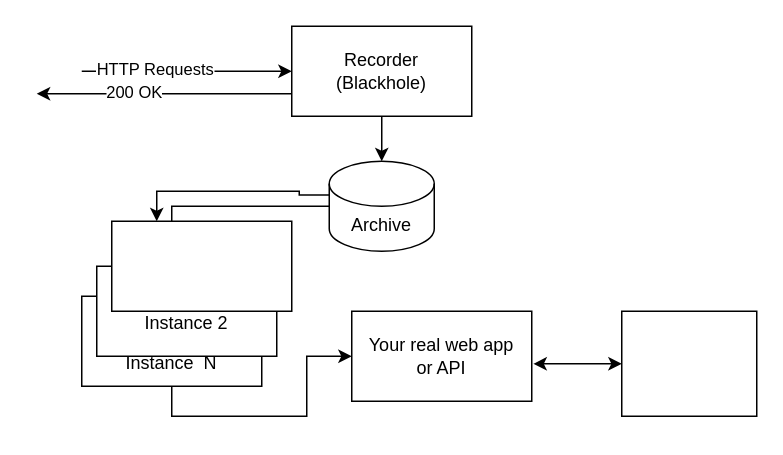
Some shapes in this 783 by 455 pixel diagram are drawn without their labels. Each missing label, with the centre of its shape:
"Real backend Infra" belongs at (688,363).
"Replay instance 1" belongs at (201,265).
